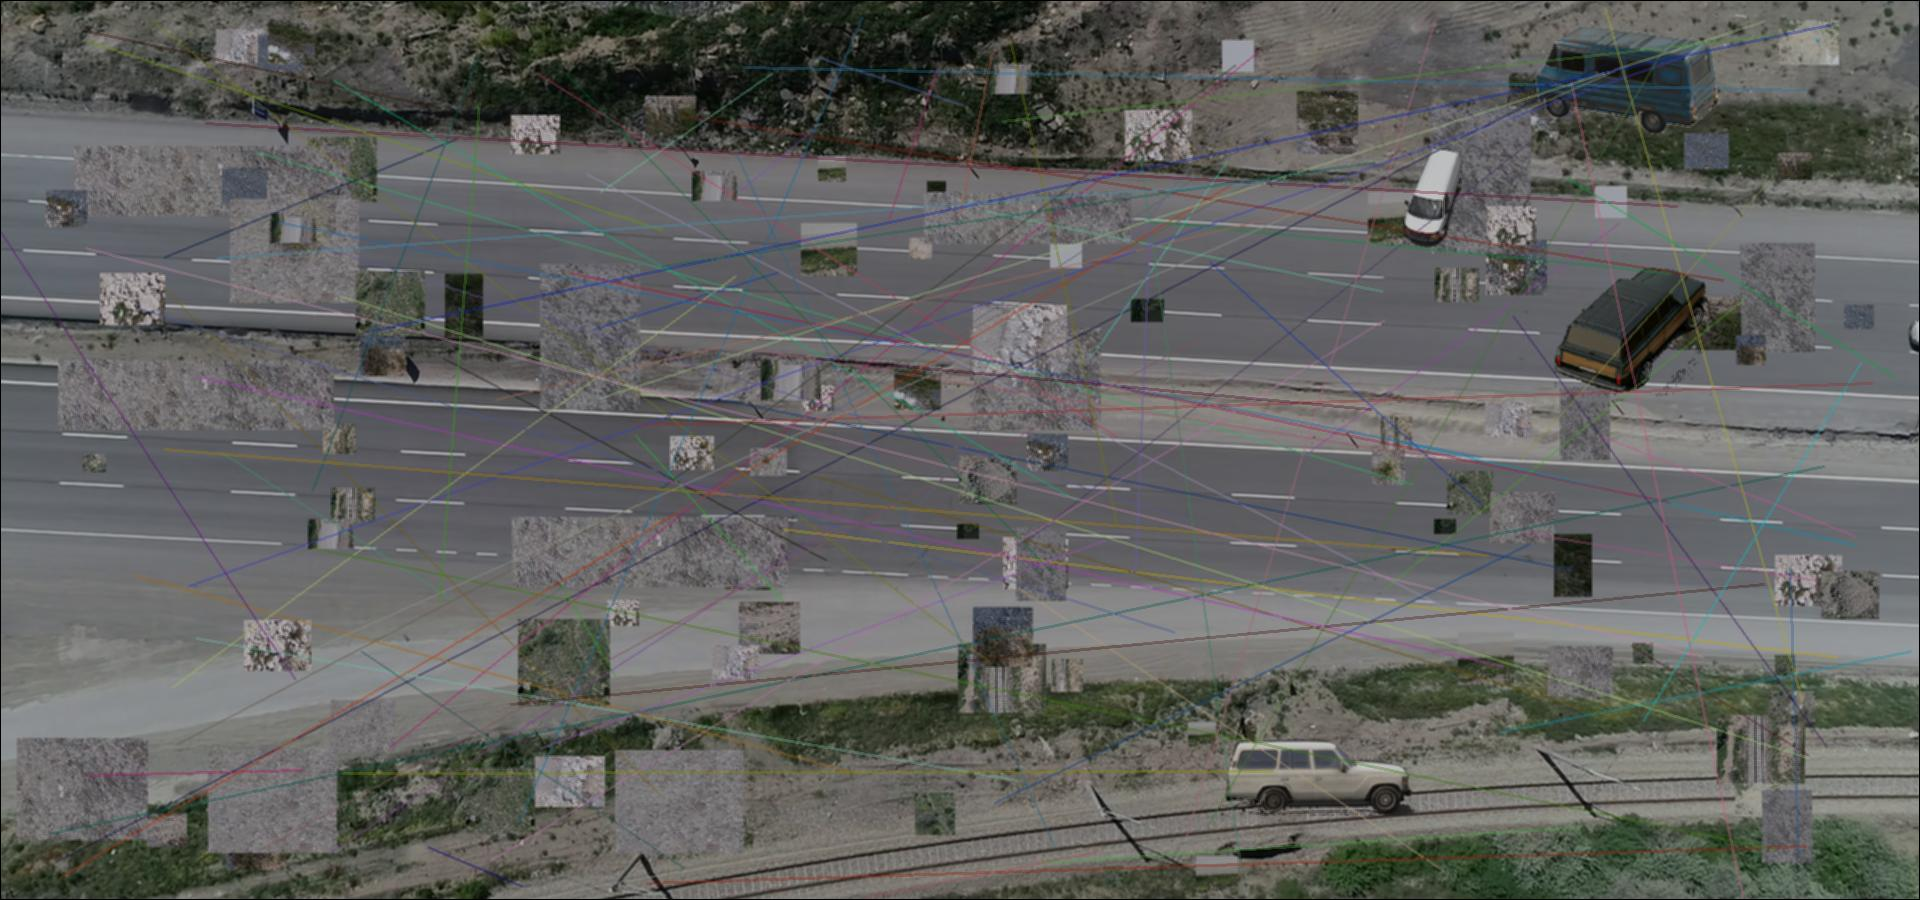arac: (1531, 23, 1722, 133), (1555, 264, 1711, 396), (1220, 738, 1414, 816), (1403, 146, 1463, 247)
